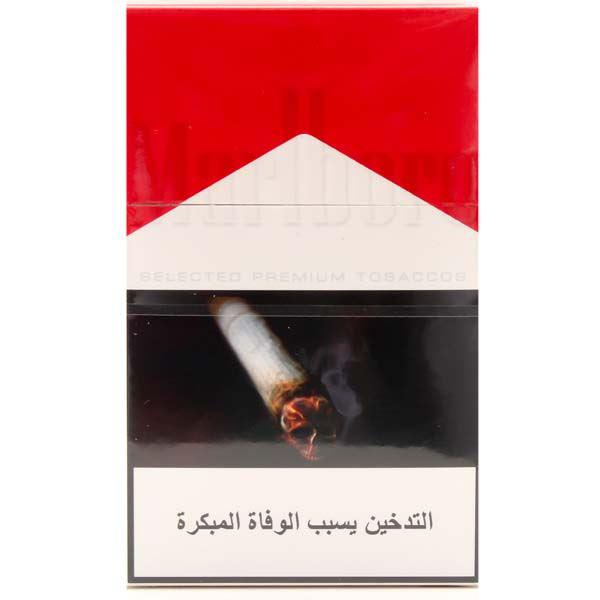marlboro_red: (125, 9, 475, 586)
